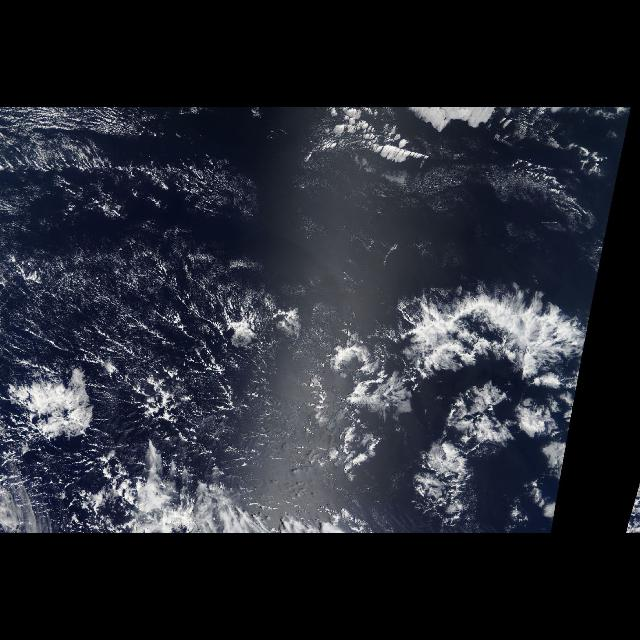Fish: (330, 255, 600, 530)
Flower: (300, 356, 554, 534)
Gravel: (7, 144, 303, 443)
Sugar: (2, 108, 340, 374)
